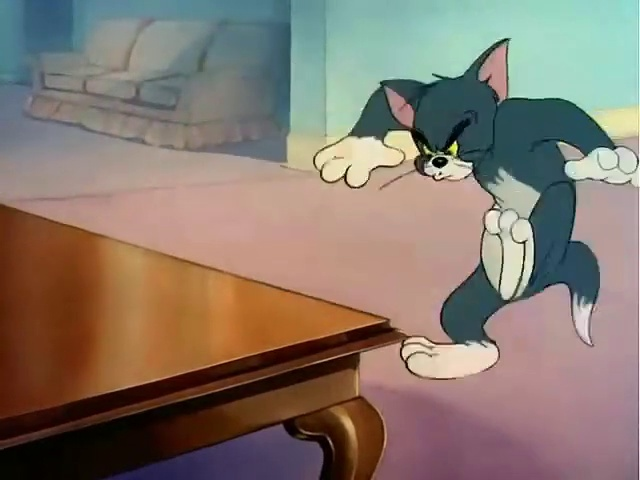tom: (303, 23, 640, 378)
